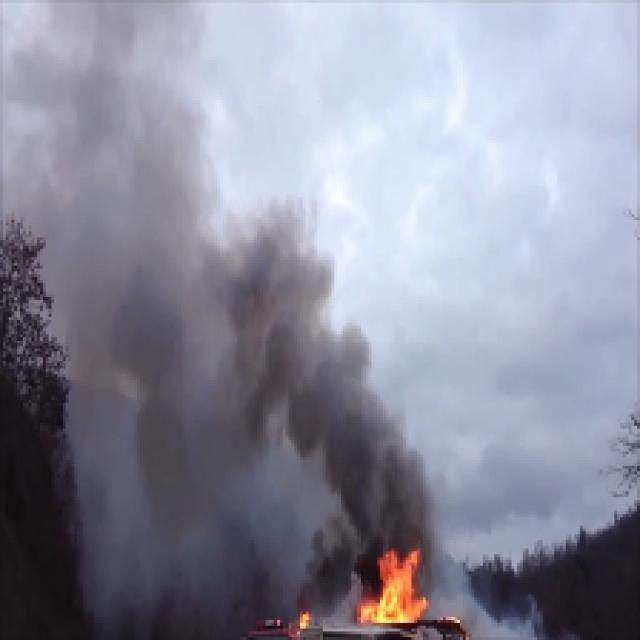Fire: (364, 550, 434, 630)
Smoke: (54, 1, 220, 517), (235, 214, 346, 466), (350, 372, 436, 536)
